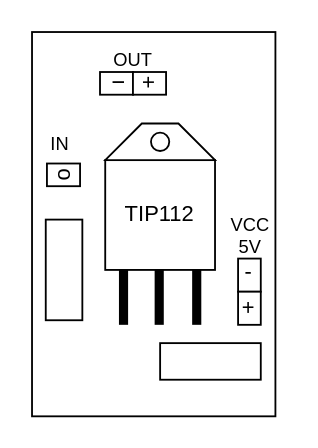
Some shapes in this 318 by 448 pixel diagram are drawn without their labels. The shapes that lost their labels are listed below. From the top down, each one's centre as x and y in pixels, then its label:
At pixel 63 269: "2k2".
At pixel 209 360: "1N4001".
